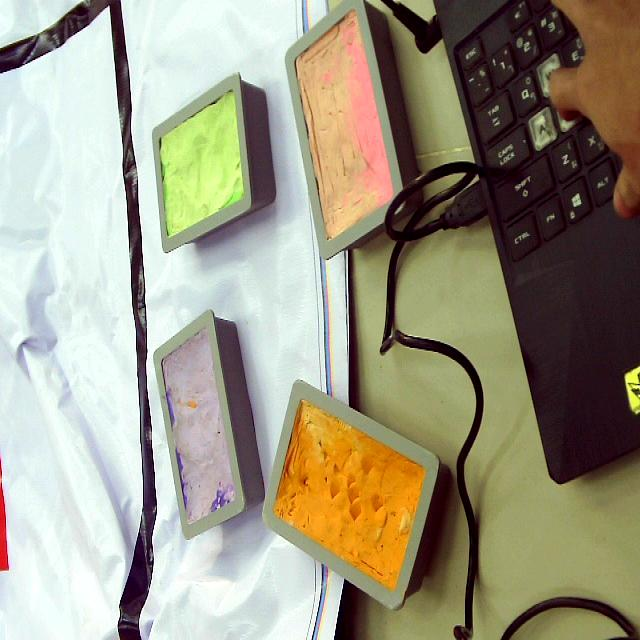block: (262, 378, 446, 610), (284, 1, 424, 261), (152, 308, 266, 539), (150, 73, 276, 255)
